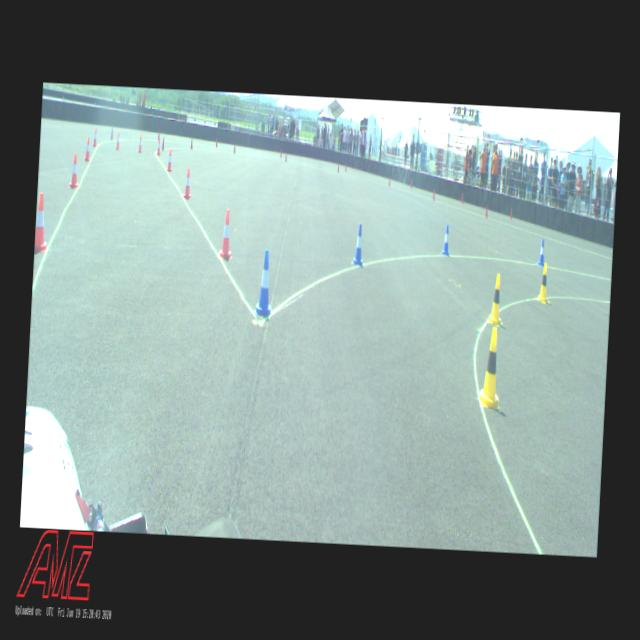blue_cone: (256, 250, 274, 316), (354, 224, 364, 266), (442, 224, 451, 256), (538, 238, 546, 266)
orange_cone: (34, 194, 49, 252), (220, 210, 233, 259), (70, 154, 80, 188), (184, 169, 192, 198), (84, 137, 91, 161), (166, 149, 173, 172), (156, 139, 162, 156), (93, 128, 98, 146), (138, 135, 142, 153), (116, 132, 120, 150)
yellow_cone: (478, 326, 504, 408), (488, 272, 504, 324), (537, 263, 551, 303)
